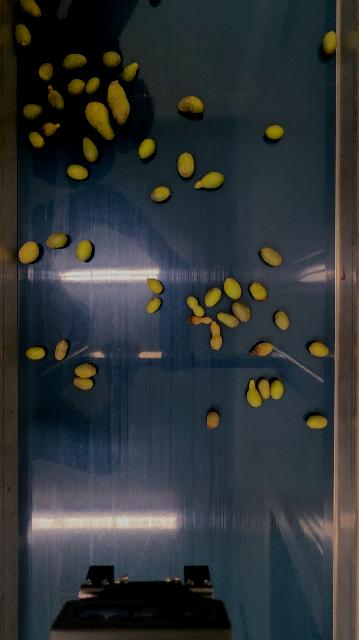Baby Potato: (84, 98, 117, 142), (104, 79, 132, 125), (194, 170, 225, 191), (177, 94, 206, 116), (18, 240, 40, 265), (177, 151, 196, 179), (261, 245, 284, 267), (81, 136, 99, 163), (61, 53, 88, 71), (231, 300, 252, 323), (46, 87, 66, 111), (223, 277, 243, 301), (14, 22, 32, 48), (19, 0, 43, 19), (209, 320, 224, 350), (247, 378, 262, 408), (322, 30, 339, 56), (203, 286, 223, 308), (138, 136, 157, 159), (187, 294, 206, 317), (217, 311, 241, 329), (22, 102, 44, 121), (75, 239, 93, 262), (74, 362, 98, 379), (251, 340, 275, 357), (151, 184, 172, 203), (66, 78, 87, 97), (67, 163, 89, 181), (46, 232, 69, 249), (102, 50, 122, 69), (309, 340, 330, 358), (257, 377, 272, 402), (122, 61, 139, 83), (54, 338, 70, 361), (265, 123, 285, 141), (250, 281, 268, 301), (307, 414, 329, 430), (275, 309, 291, 330), (72, 376, 96, 390), (25, 345, 46, 361), (270, 378, 285, 400), (38, 62, 54, 82), (40, 122, 61, 137), (28, 131, 45, 149), (85, 76, 101, 95), (206, 409, 221, 429), (147, 277, 164, 294), (147, 297, 162, 314), (188, 315, 211, 325)
